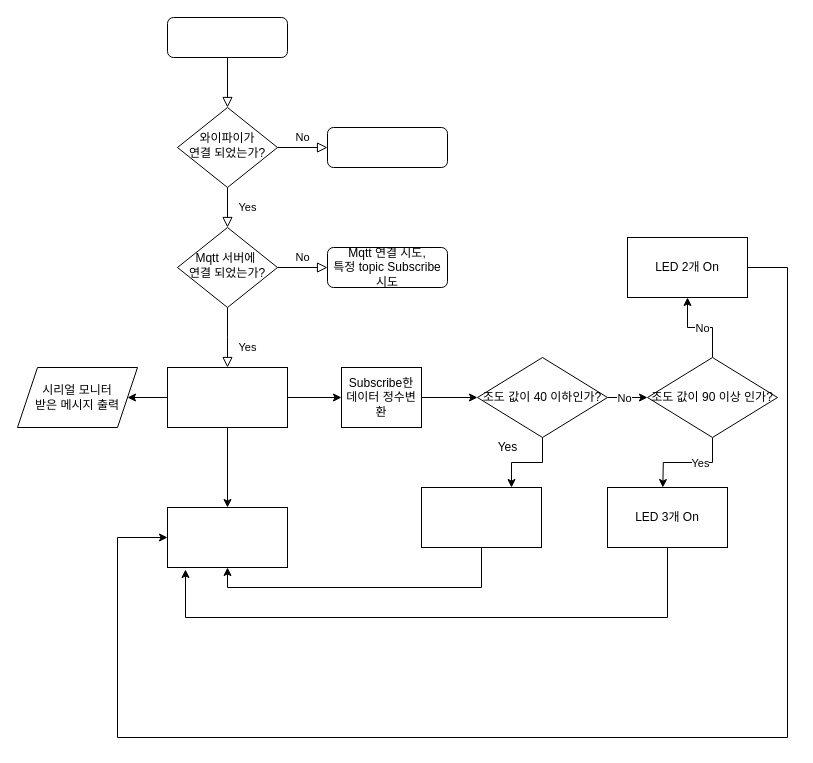
This 813x763 diagram has some shape labels left out. The shapes that lost their labels are listed below. From the top down, each one's centre as x and y in pixels, then its label:
[227,37]: 시스템 셋업
[387,147]: Delay(500), 연결 시도
[227,397]: 메인 루프 진입 (Subscribe 시작)
[227,537]: 조도 센서 읽기, mqtt publish
[481,517]: LED 1개 On
